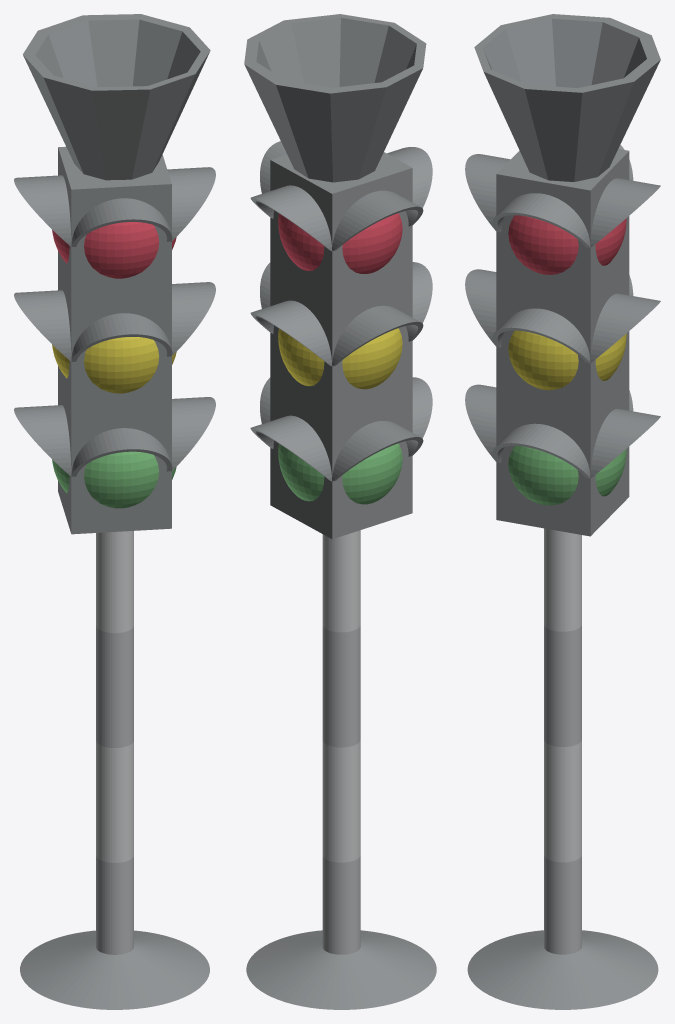
Rendered from traffic_light.glb.
3 views of the same model, side by side, from view 1: azimuth 30°, elevation 25°; view 2: azimuth 150°, elevation 25°; view 3: azimuth 270°, elevation 25° (orthographic).
Visible parts, largest first — view 1: Mesh_Mesh_head_geo.001_lambert2SG.001; view 2: Mesh_Mesh_head_geo.001_lambert2SG.001; view 3: Mesh_Mesh_head_geo.001_lambert2SG.001.
Boxes of the visible parts, bbox=[...] form: Mesh_Mesh_head_geo.001_lambert2SG.001: bbox=[14, 14, 215, 1009]; Mesh_Mesh_head_geo.001_lambert2SG.001: bbox=[244, 14, 436, 1009]; Mesh_Mesh_head_geo.001_lambert2SG.001: bbox=[465, 14, 660, 1009].
Bounding box in the file's own units: 17.59 × 91 × 17.59.
